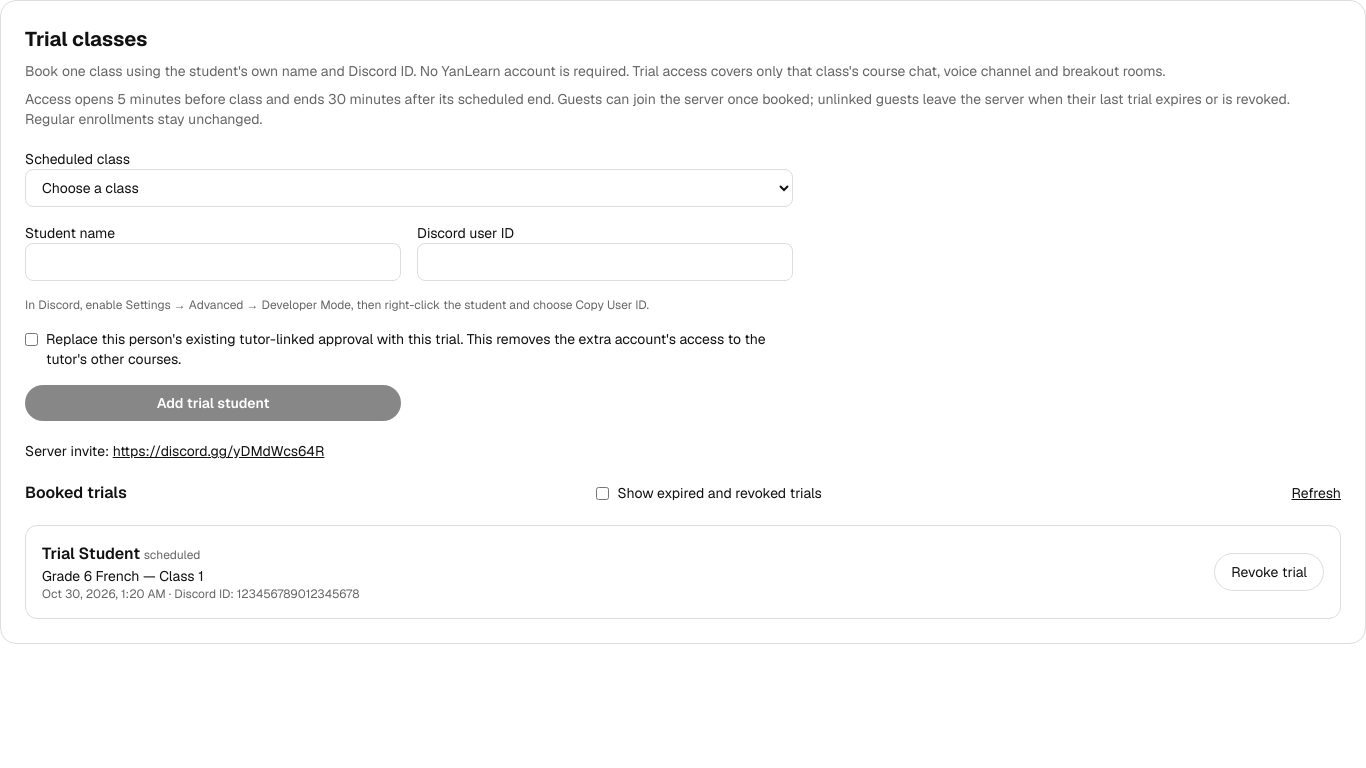
trial booking interface › shows booking errors and makes replacing an approval an explicit choice
Click the 1st checkbox. click: (32, 340)
box: [25,333,38,346]
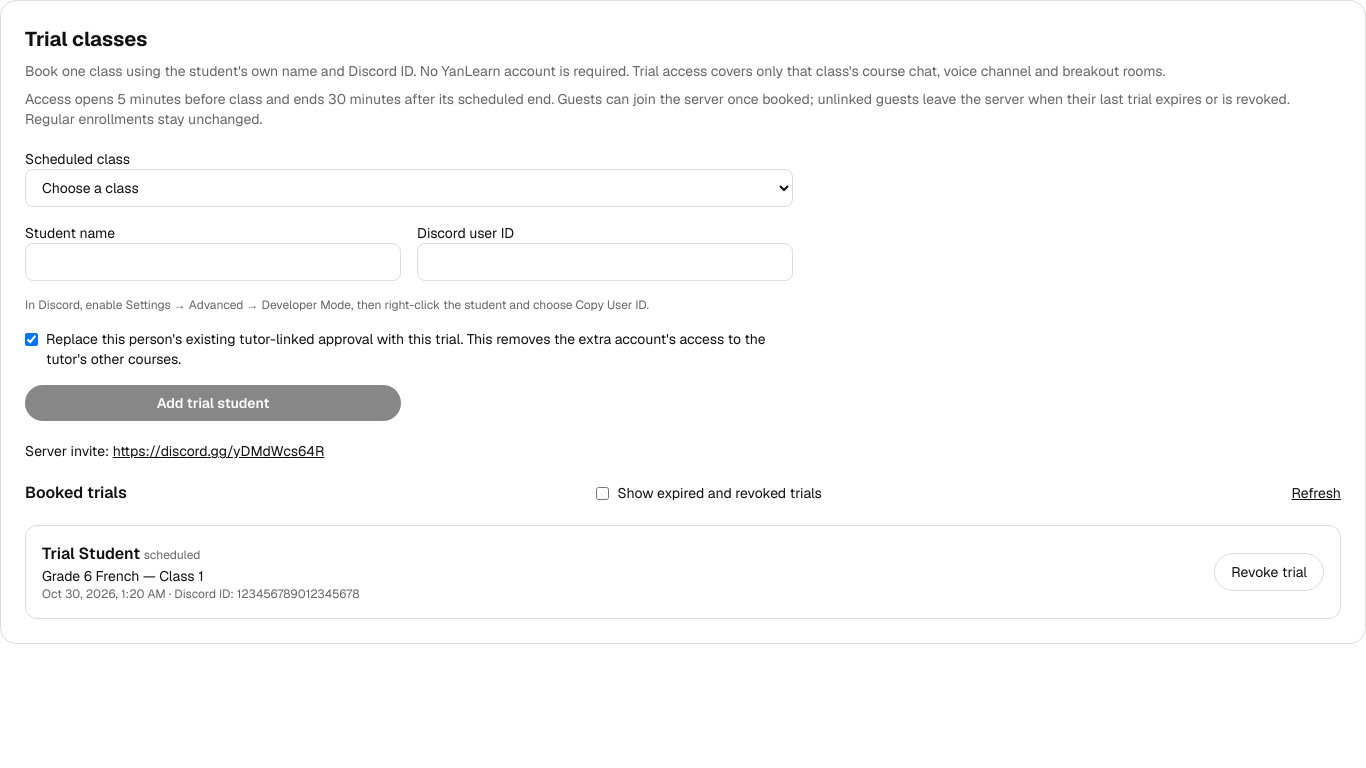
Submit the form, box [25,149,793,421]
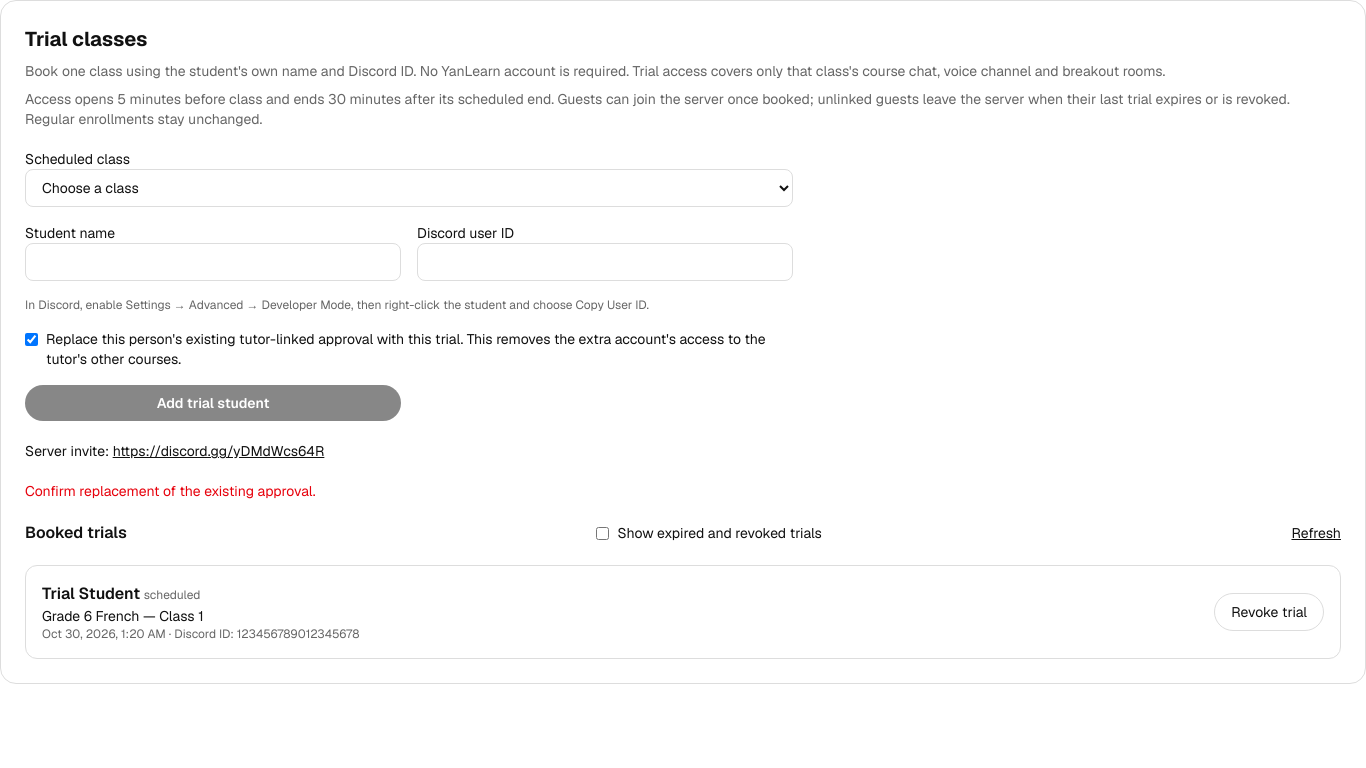
Expected: the message "Confirm replacement of the existing approval." is shown, [25,482,316,500]
